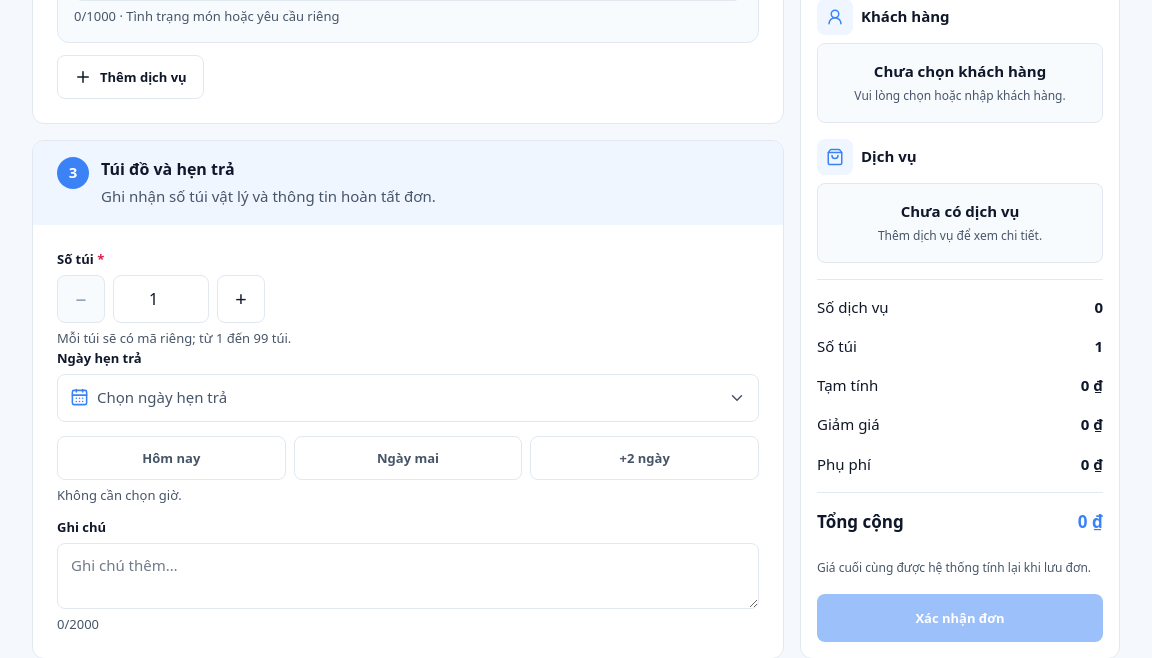
Test: Order pages › edits bag count directly and keeps it in the summary without changing preview inputs
(page scrolled)
Check: the number field labelled "Số túi" holds "1", box [113,275,209,323]
Click the button named "Tăng số túi" at (241, 299), box [217,275,265,323]
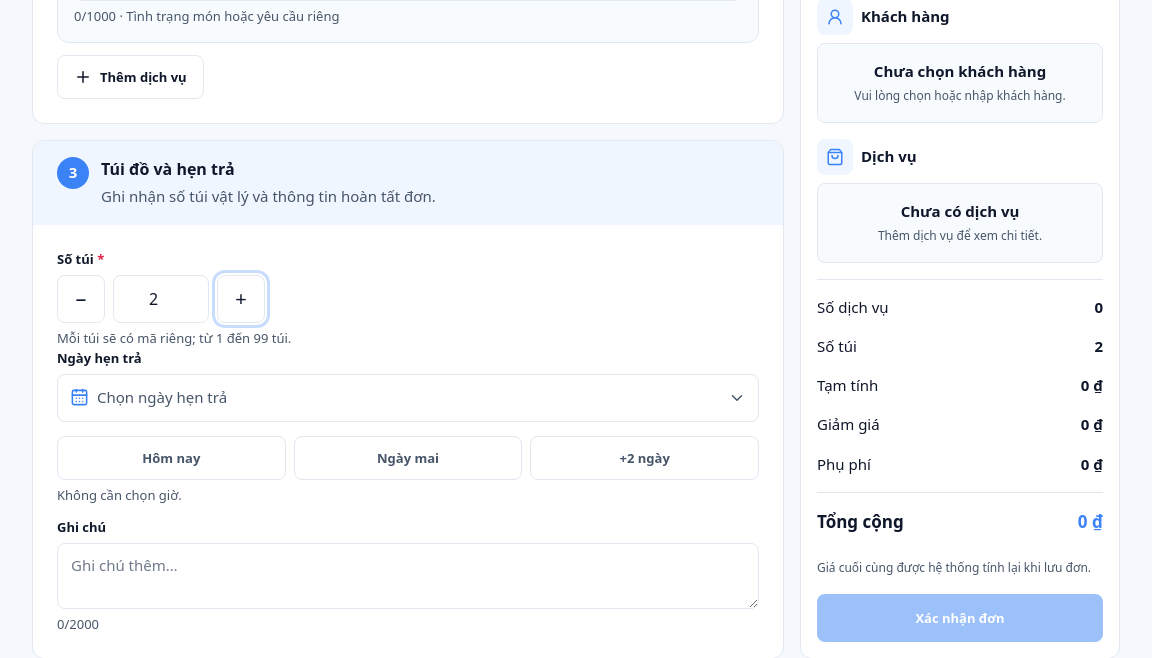
Check: the number field labelled "Số túi" holds "2"
Replace the text in the number field labelled "Số túi" with "4" at (161, 299), box [113,275,209,323]
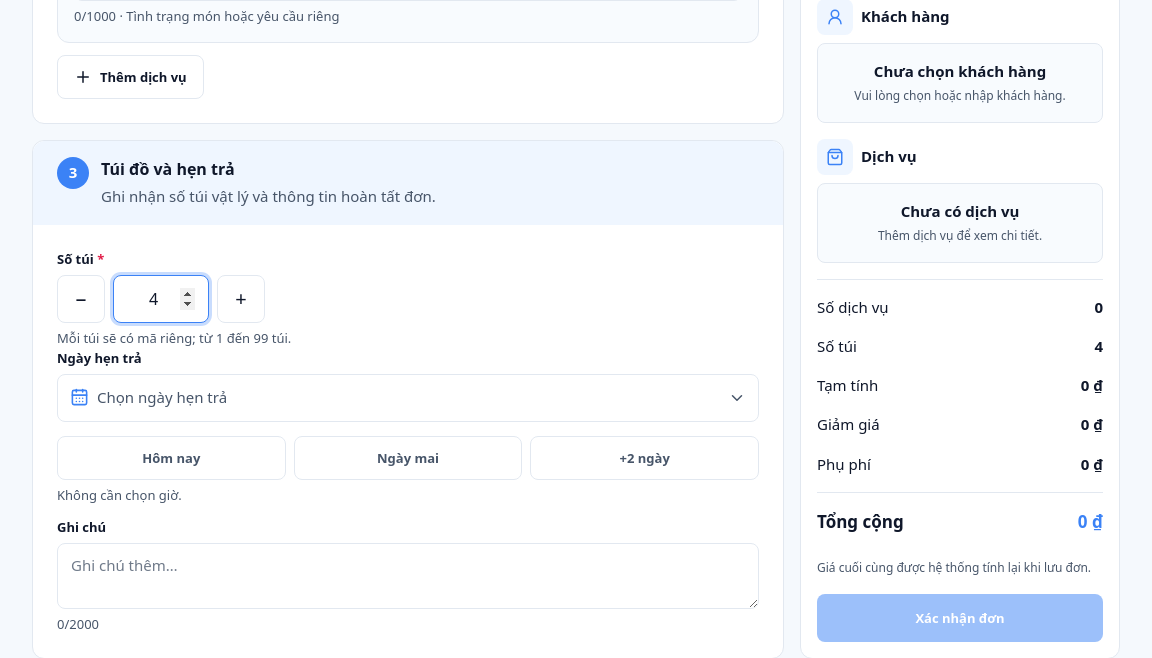
Click the button named "Giảm số túi" at (81, 299), box [57,275,105,323]
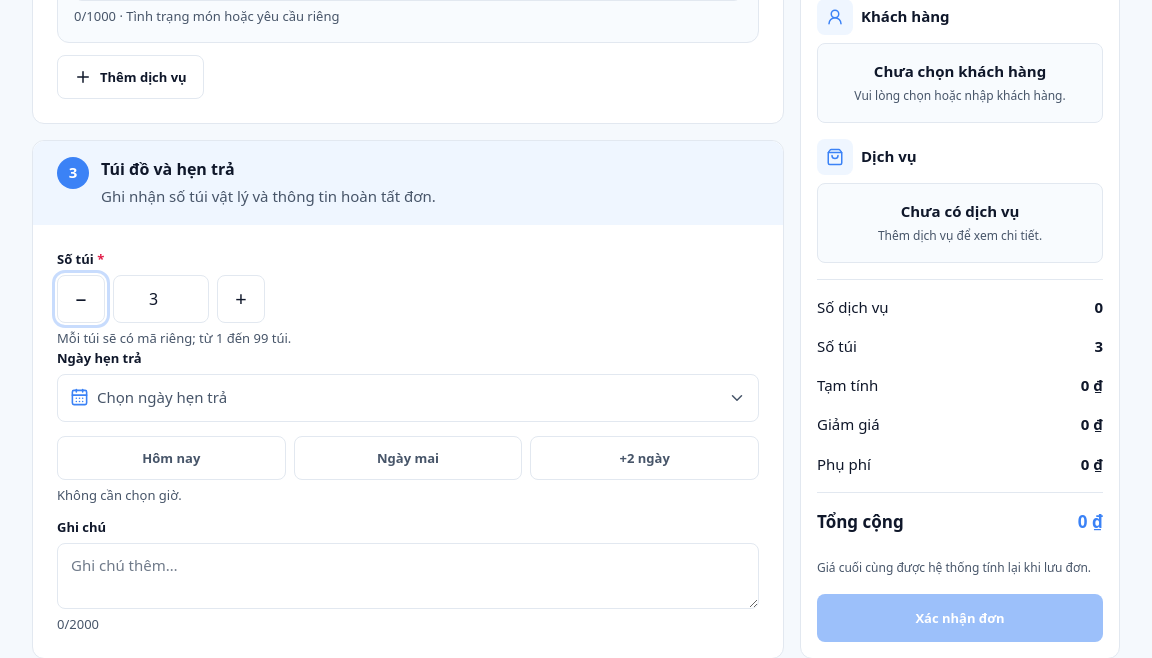
Check: the number field labelled "Số túi" holds "3", box [113,275,209,323]
